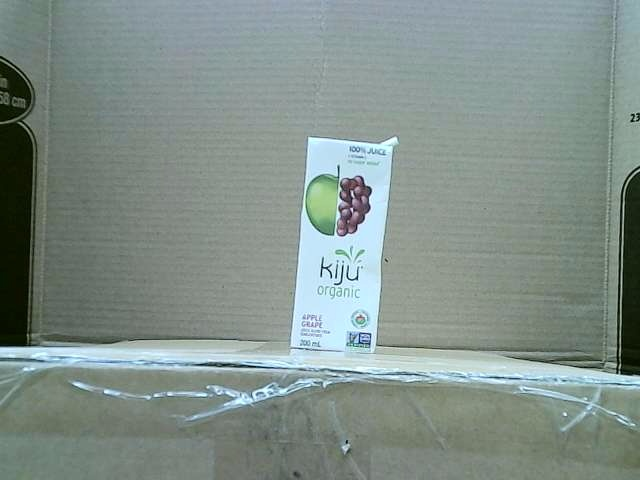JuiceBox: (289, 136, 400, 351)
